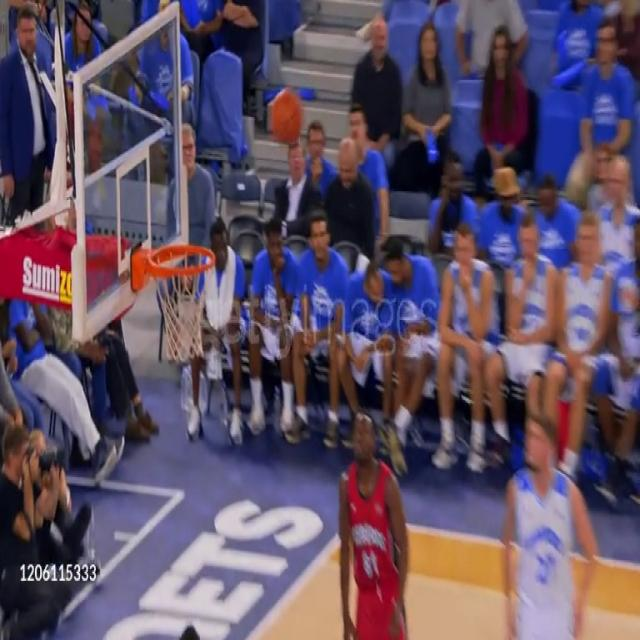ball: (270, 89, 302, 144)
